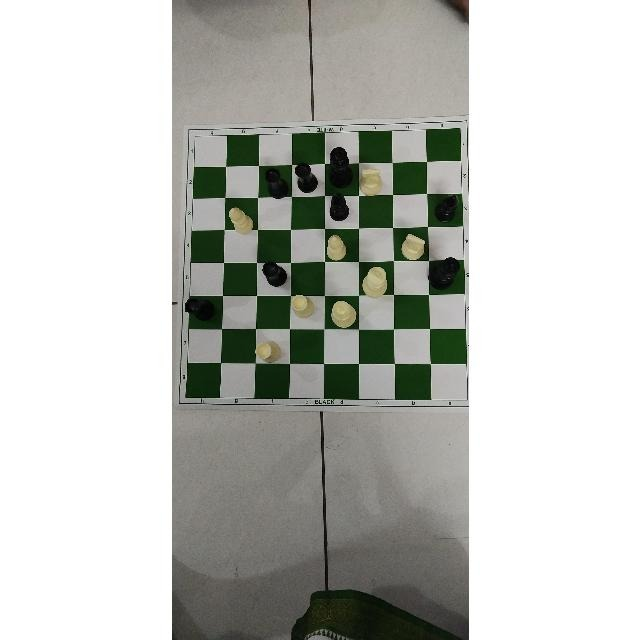black-bishop: (432, 194, 458, 224), (327, 192, 348, 222)
black-king: (427, 257, 459, 290)
black-queen: (328, 146, 354, 188)
black-rook: (262, 166, 289, 199), (183, 295, 216, 320), (294, 162, 318, 194), (260, 260, 287, 286)
white-bishop: (226, 207, 253, 235), (325, 234, 347, 261)
white-king: (360, 267, 387, 298)
white-knight: (398, 233, 425, 260), (358, 168, 382, 196)
white-queen: (330, 299, 356, 329)
white-rook: (255, 340, 281, 363), (290, 294, 314, 318)
